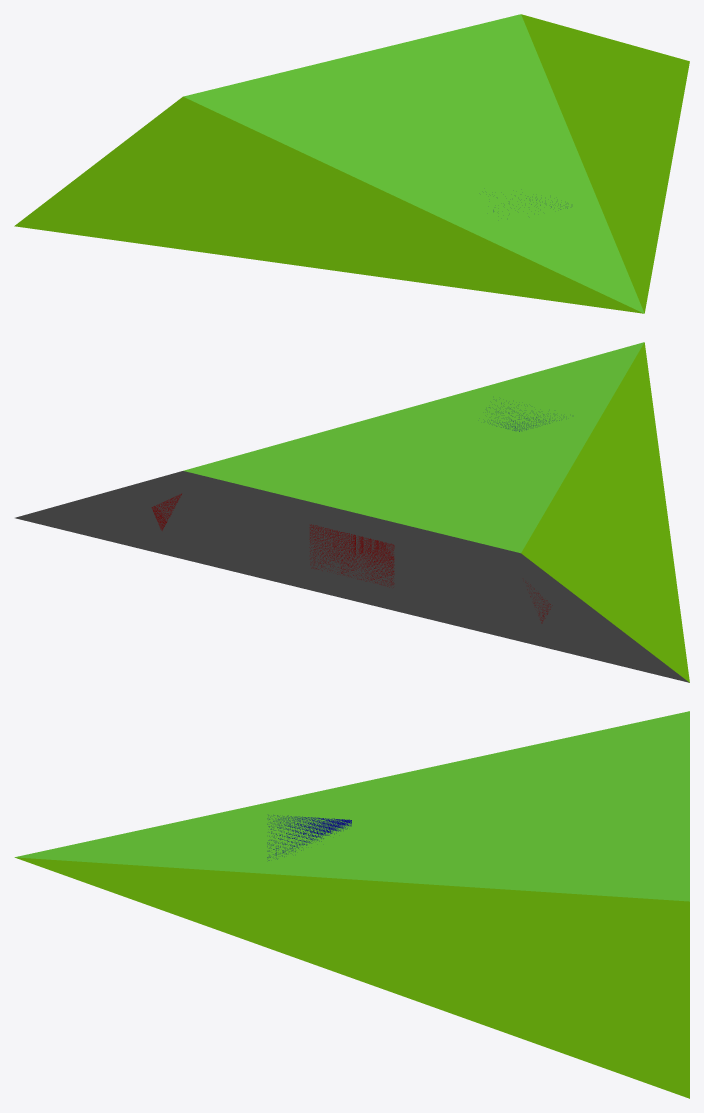
Rendered from mamba.obj.
The picture shows the model from 3 angles, top to bottom: view 1: azimuth 30°, elevation 25°; view 2: azimuth 150°, elevation 25°; view 3: azimuth 270°, elevation 25°; orthographic projection. The views are drawn at different scales.
Visible parts, largest first — view 1: mamba; view 2: mamba; view 3: mamba.
Part boxes in pixels (box(x1,y1,x2,y2)): mamba: box(14, 14, 689, 313); mamba: box(15, 342, 689, 682); mamba: box(14, 711, 689, 1098).
Size of the model in its own units: 128 by 16 by 96.
